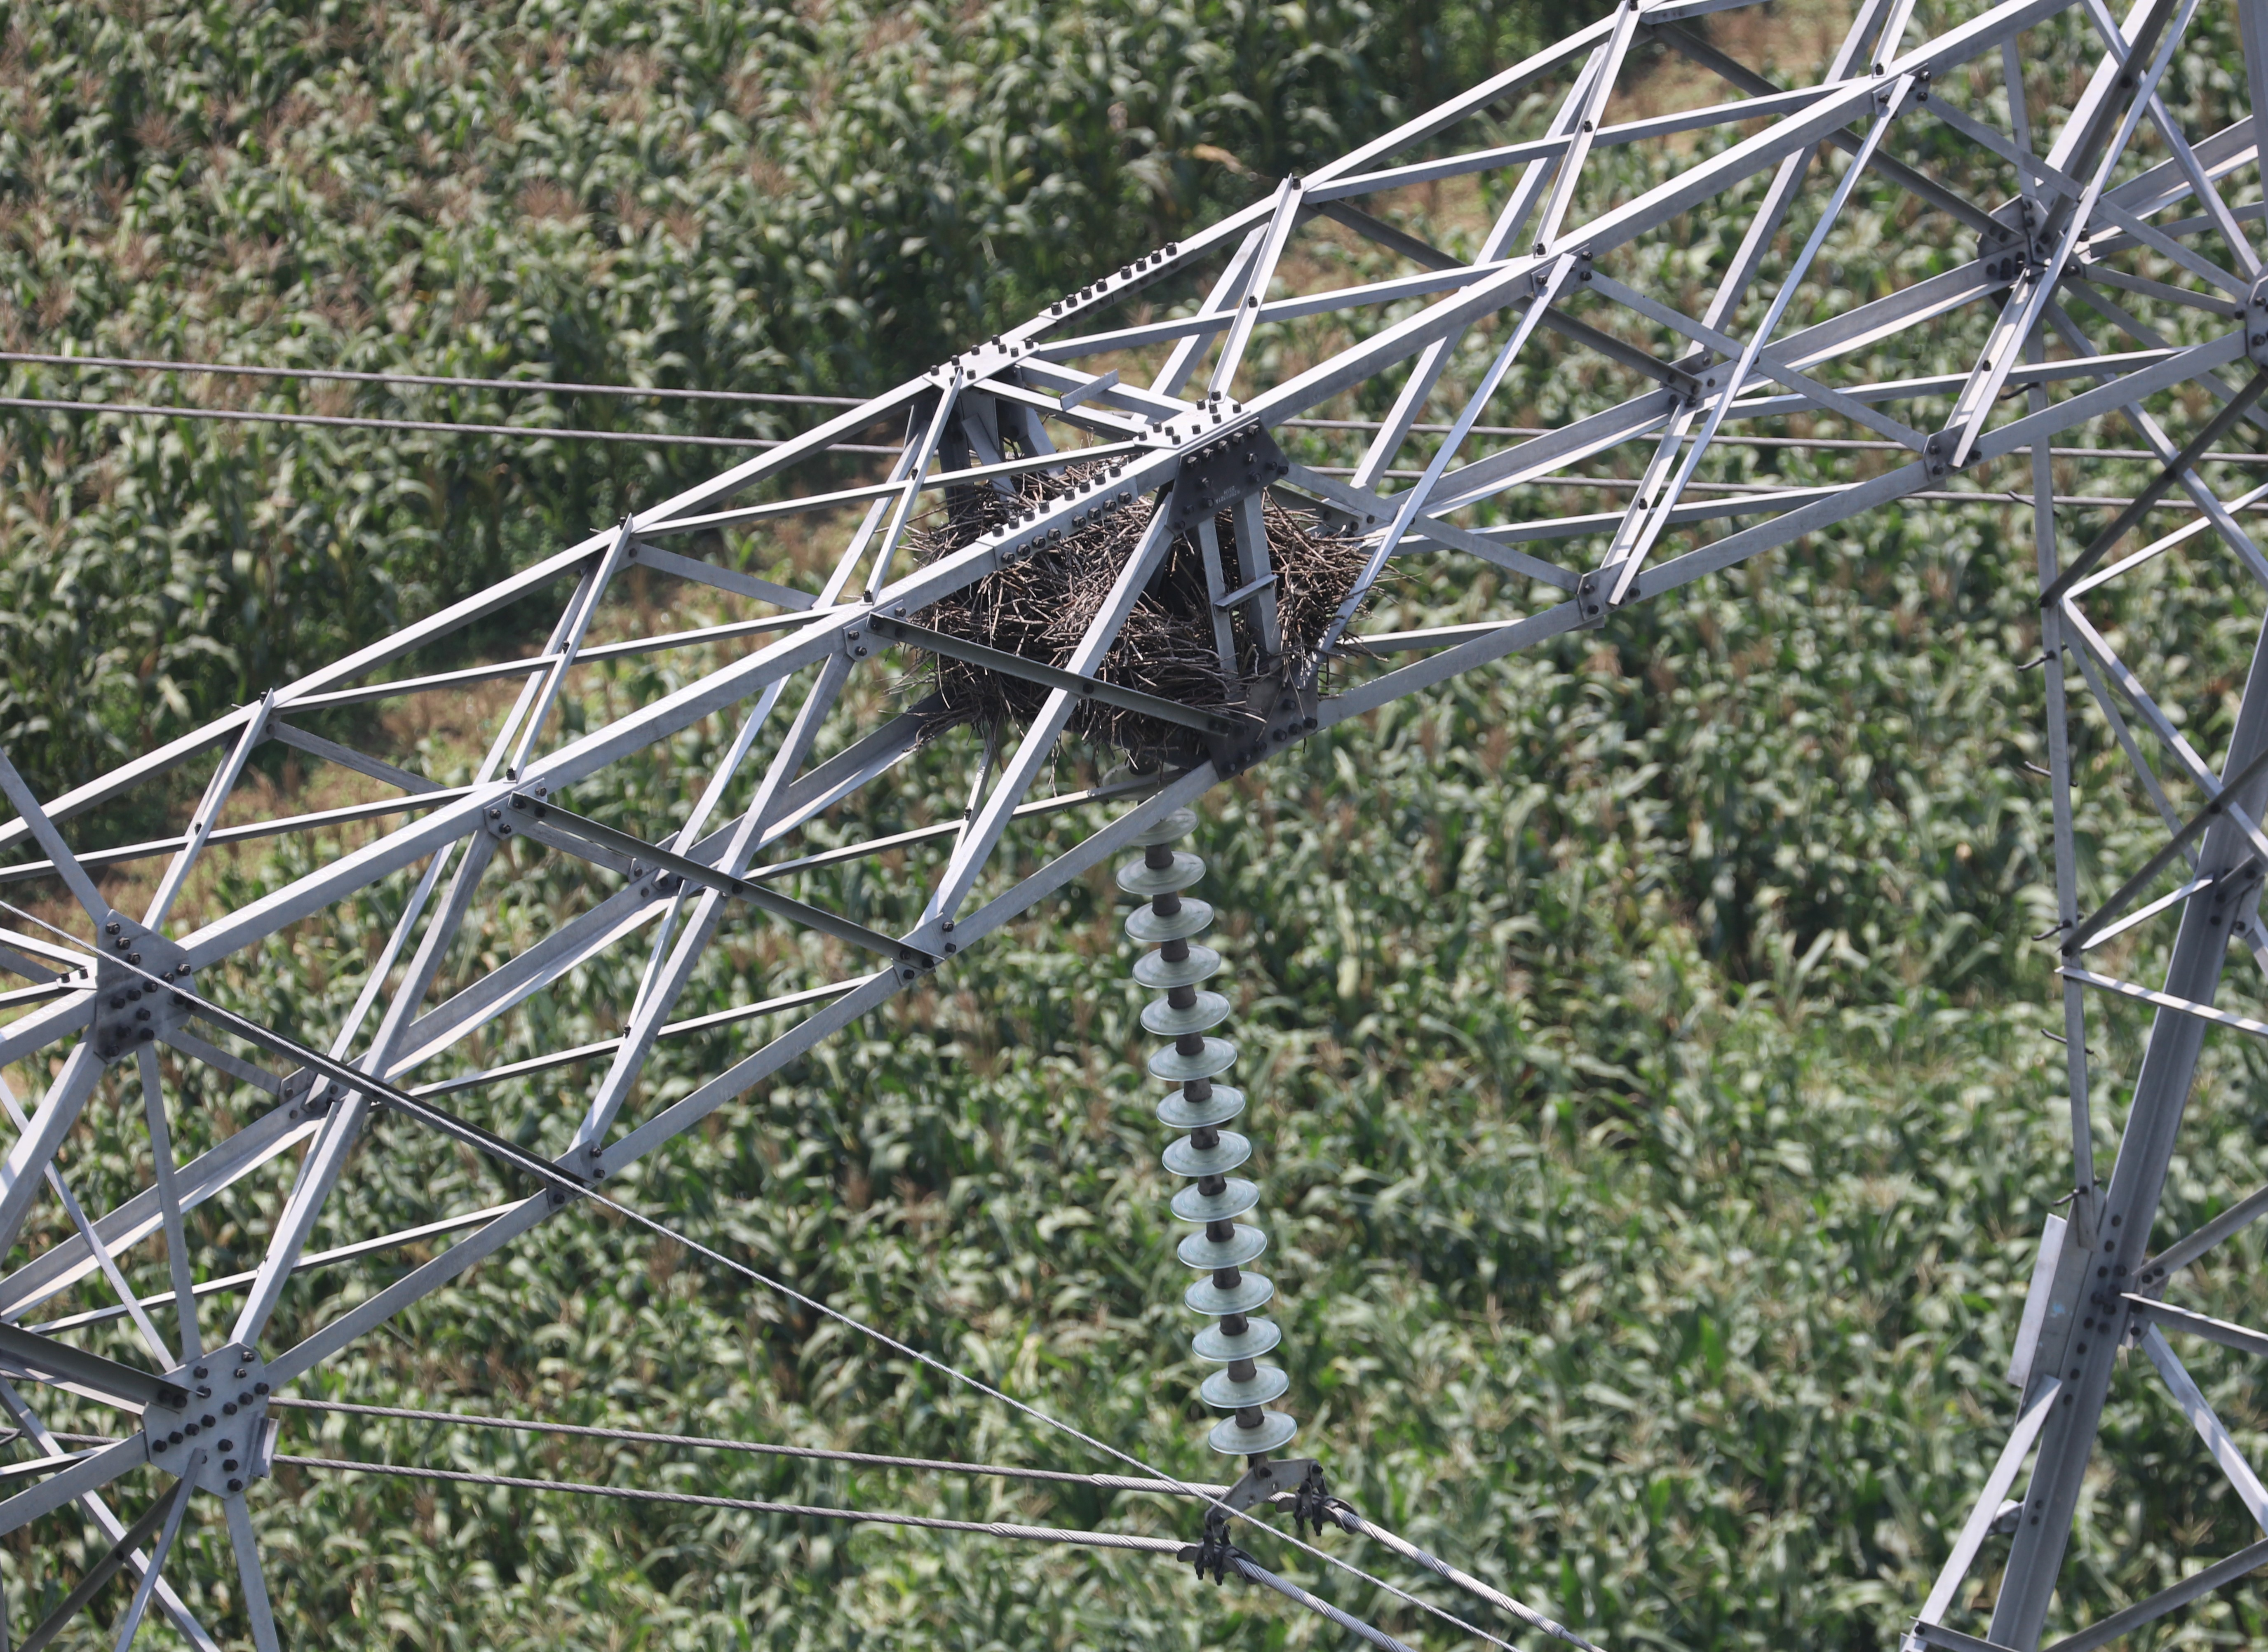niaowo: (902, 430, 1370, 780)
